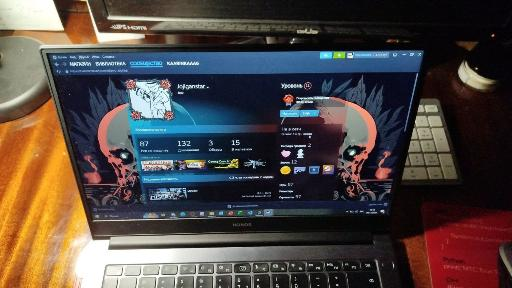steam: (50, 50, 428, 213)
